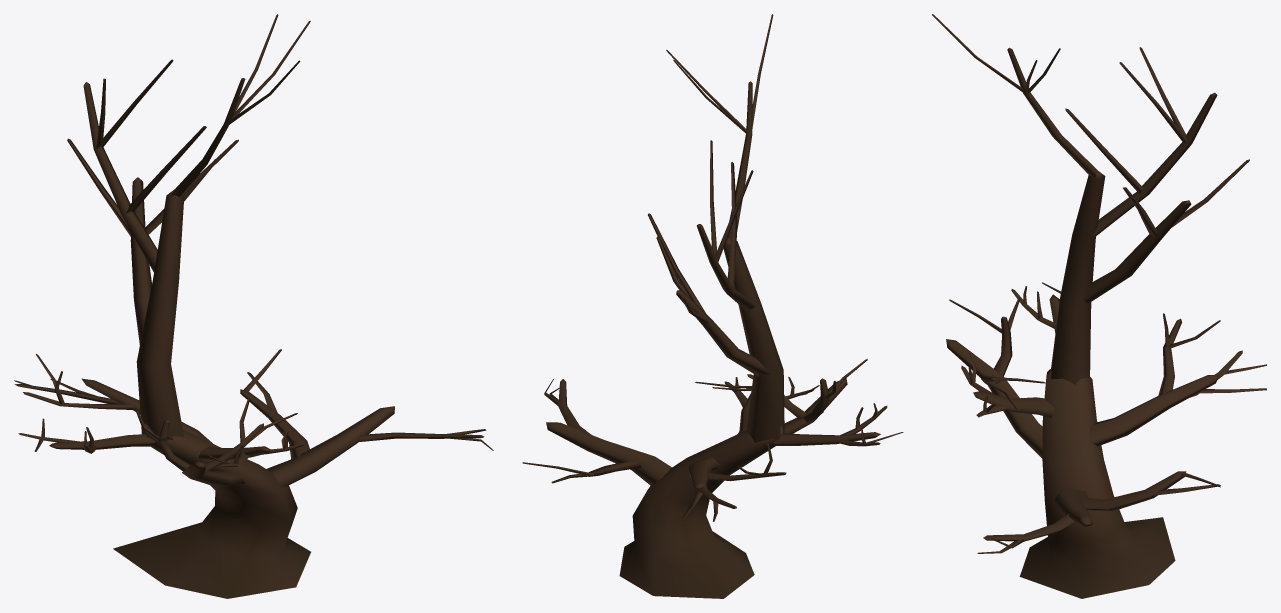
Rendered from tree-bare-gnarled-b.glb.
3 views of the same model, side by side, from view 1: azimuth 30°, elevation 25°; view 2: azimuth 150°, elevation 25°; view 3: azimuth 270°, elevation 25° (orthographic). The views are drawn at different scales.
Visible parts, largest first — view 1: tree-bare-gnarled-b; view 2: tree-bare-gnarled-b; view 3: tree-bare-gnarled-b.
Boxes of the visible parts, left/top/right/bottom form: tree-bare-gnarled-b: left=14, top=14, right=493, bottom=598; tree-bare-gnarled-b: left=522, top=14, right=903, bottom=598; tree-bare-gnarled-b: left=932, top=14, right=1266, bottom=598.
Bounding box in the file's own units: 1.32 × 1.7 × 0.9497.
